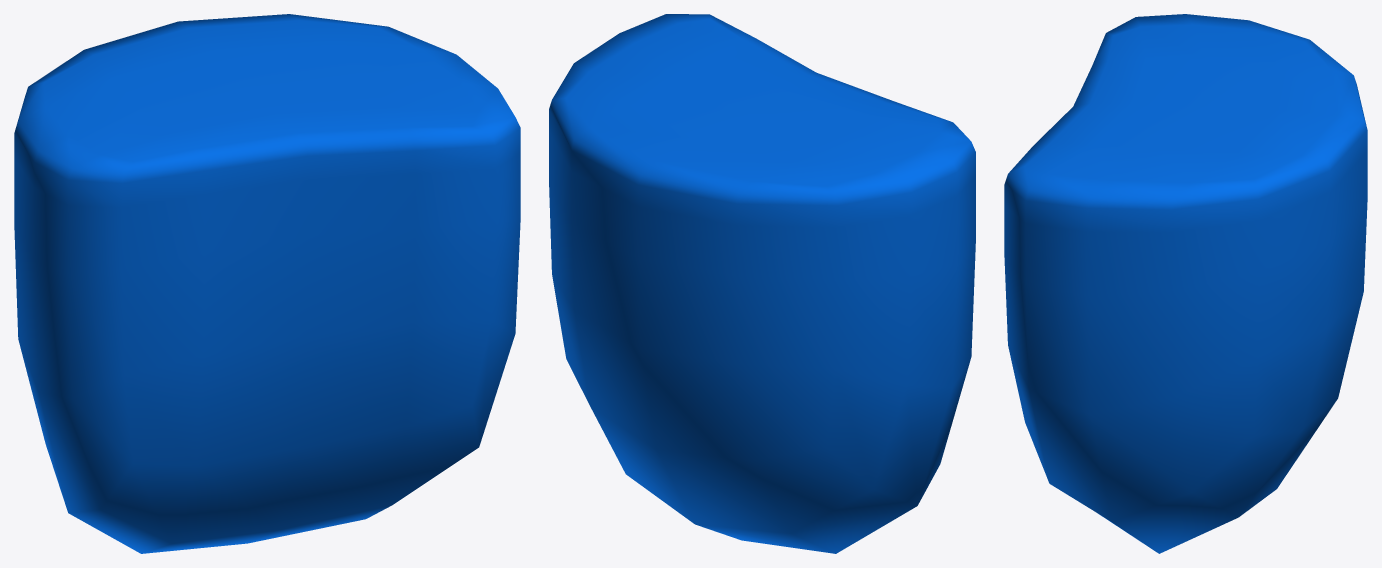
Rendered from Low Island Layer.fbx.
3 views of the same model, side by side, from view 1: azimuth 30°, elevation 25°; view 2: azimuth 150°, elevation 25°; view 3: azimuth 270°, elevation 25° (orthographic). The views are drawn at different scales.
Parts seen in each view (by area): view 1: Low Island Layer; view 2: Low Island Layer; view 3: Low Island Layer.
Part boxes in pixels (x1,y1,x2,y2): Low Island Layer: (14,14,520,553); Low Island Layer: (549,14,975,553); Low Island Layer: (1004,14,1367,553).
Size of the model in its own units: 141 by 147 by 115.
